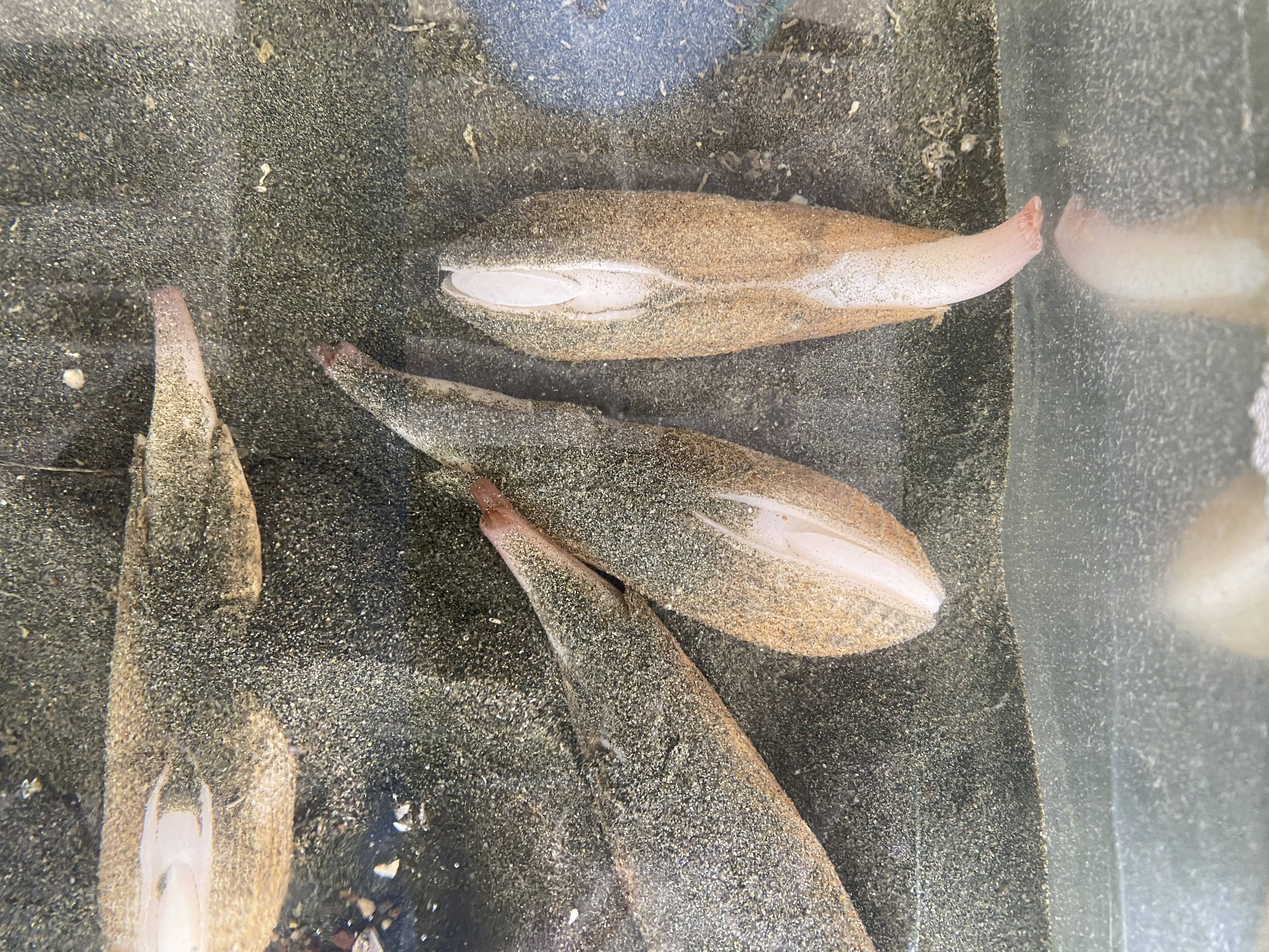Healthy: (311, 343, 944, 656), (470, 479, 873, 952), (99, 286, 296, 952), (439, 190, 1042, 359)
